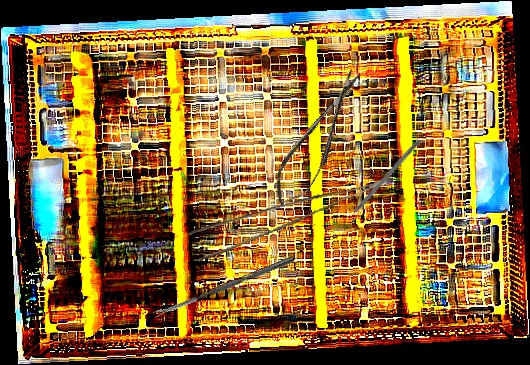Hook Surgical: (339, 138, 422, 228)
Micro Scissor: (262, 63, 376, 214)
Surgical Spoon: (152, 254, 295, 319)
Tissue Forceps: (186, 177, 401, 262)
